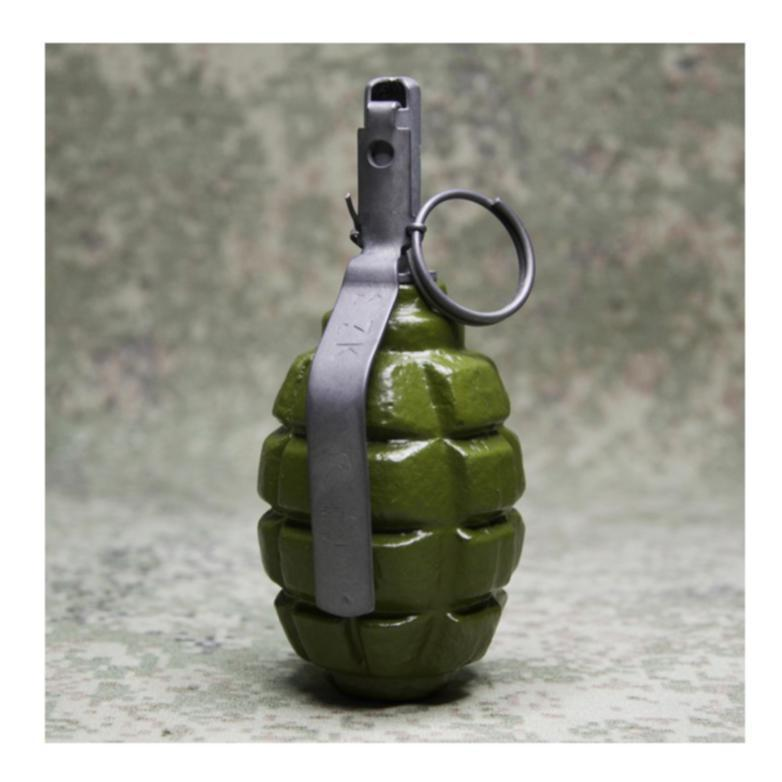Grenade: (257, 78, 534, 692)
